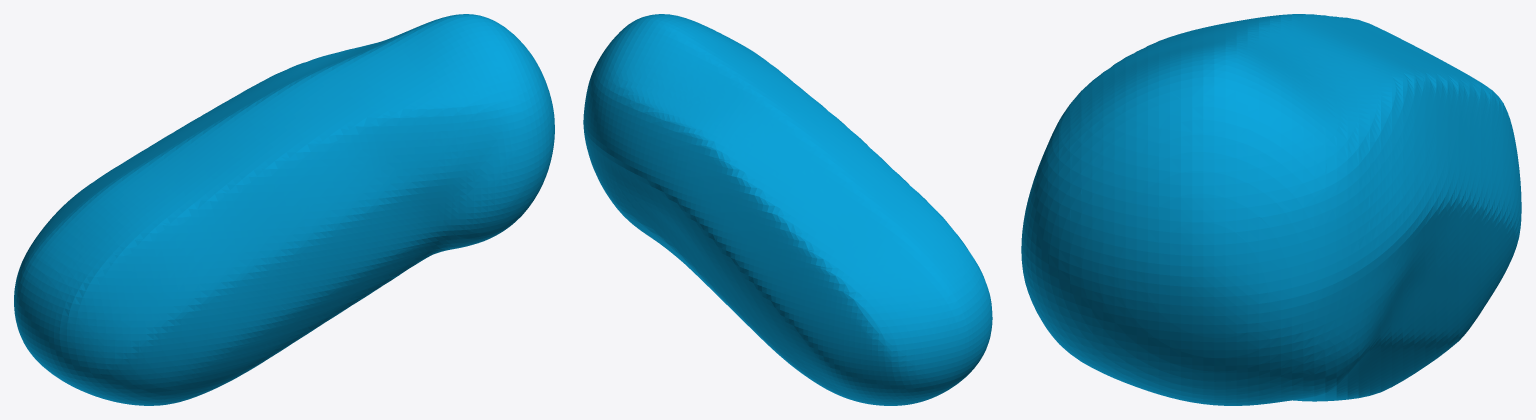
Rendered from hand_part_4.glb.
The picture shows the model from 3 angles, left to right: view 1: azimuth 30°, elevation 25°; view 2: azimuth 150°, elevation 25°; view 3: azimuth 270°, elevation 25°; orthographic projection. The views are drawn at different scales.
Bounding box in the file's own units: 0.0467 × 0.0311 × 0.0262.
